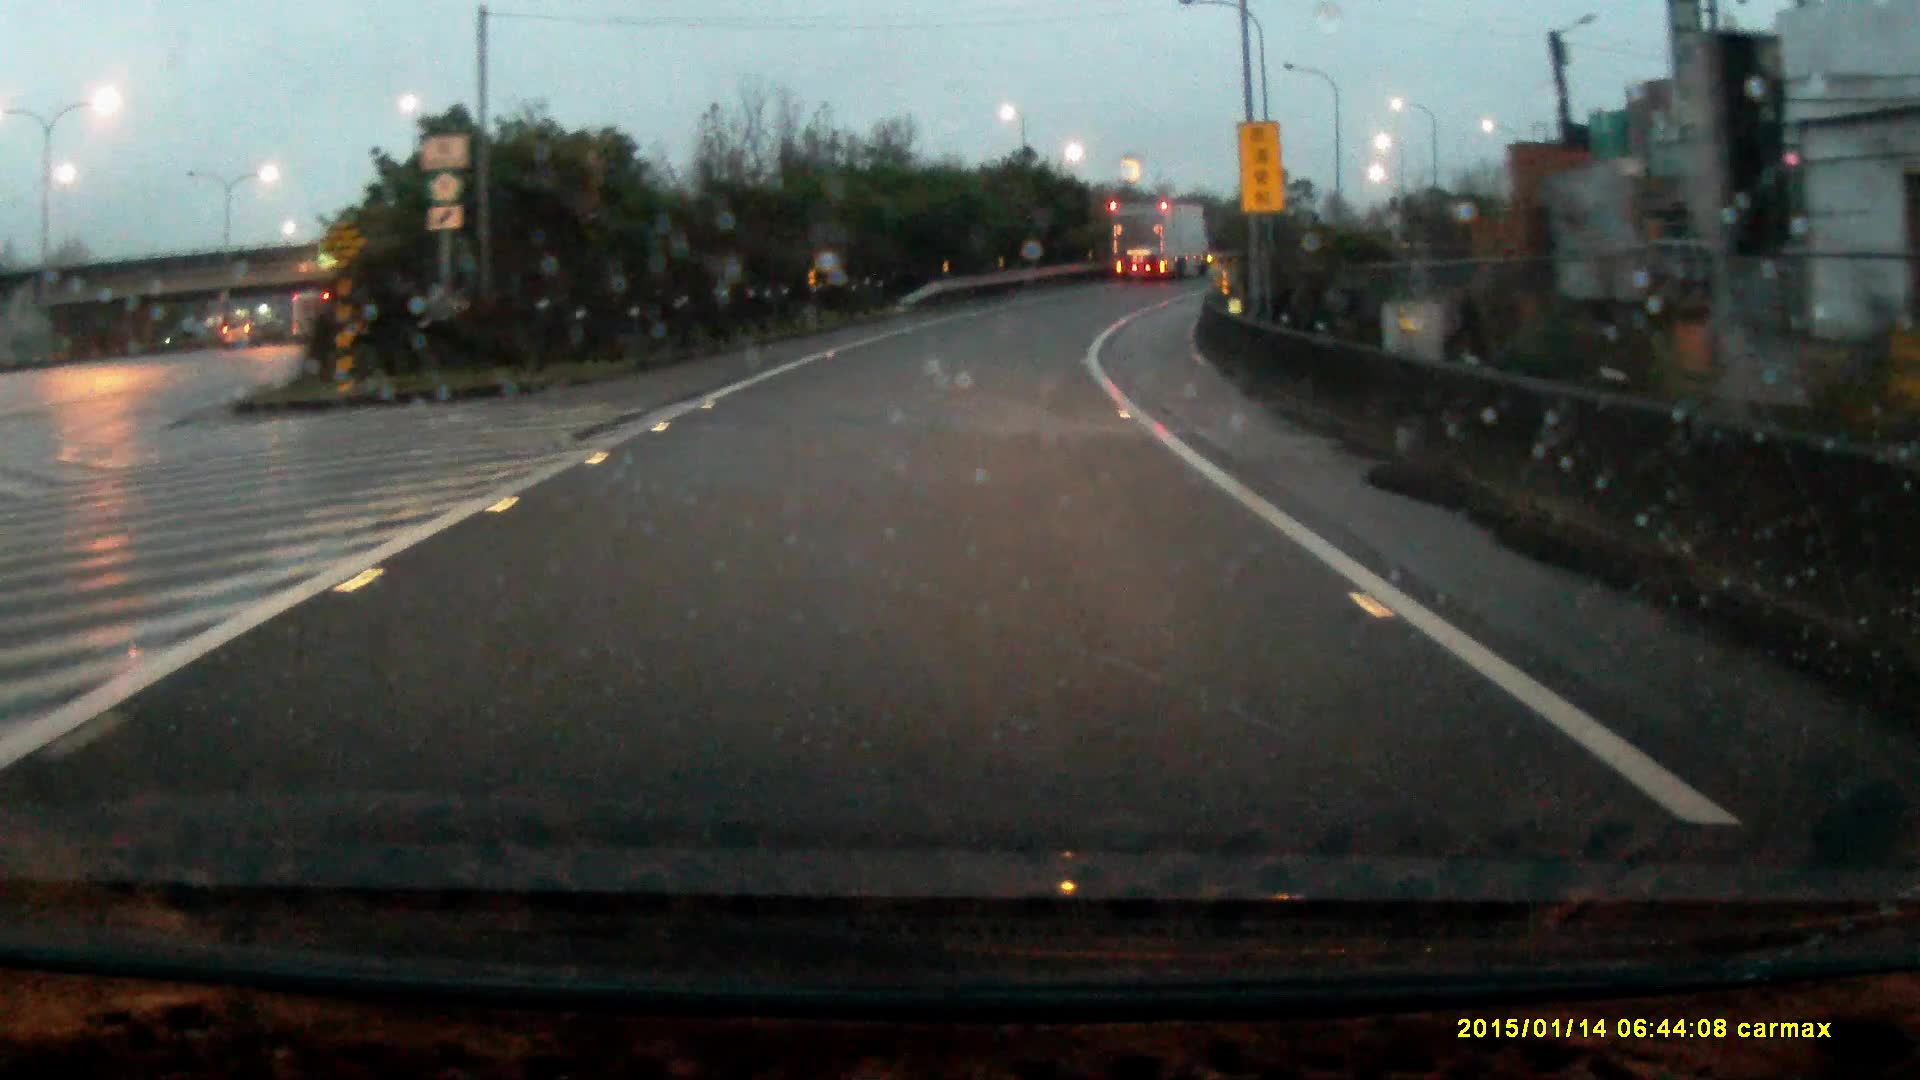vehicle: (1110, 202, 1211, 285), (223, 316, 261, 349)
